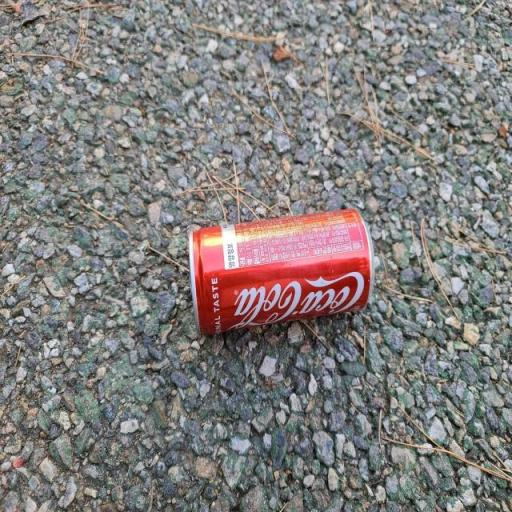metal: (165, 186, 421, 408)
